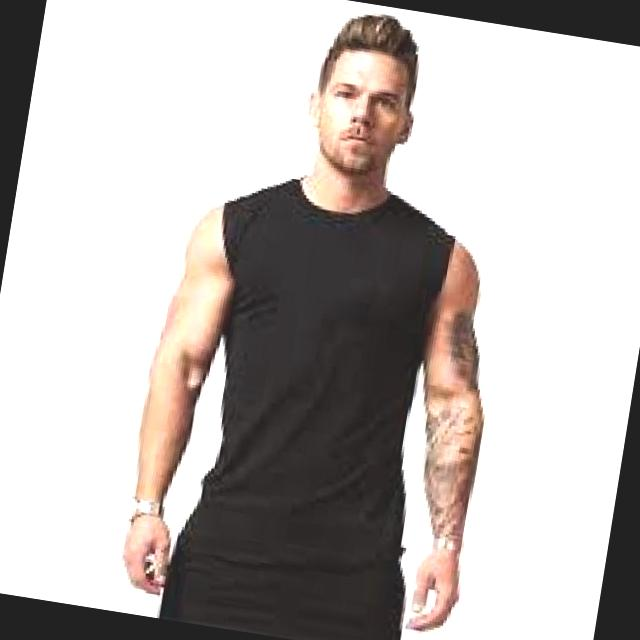no_vest: (170, 164, 461, 586)
